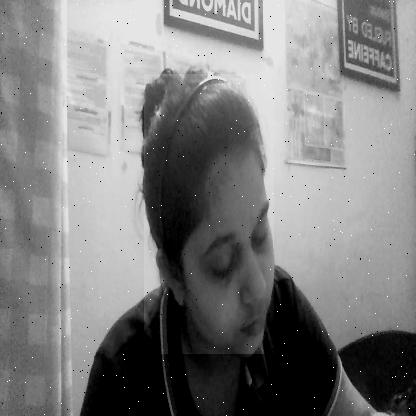Distracted: (144, 74, 274, 354)
